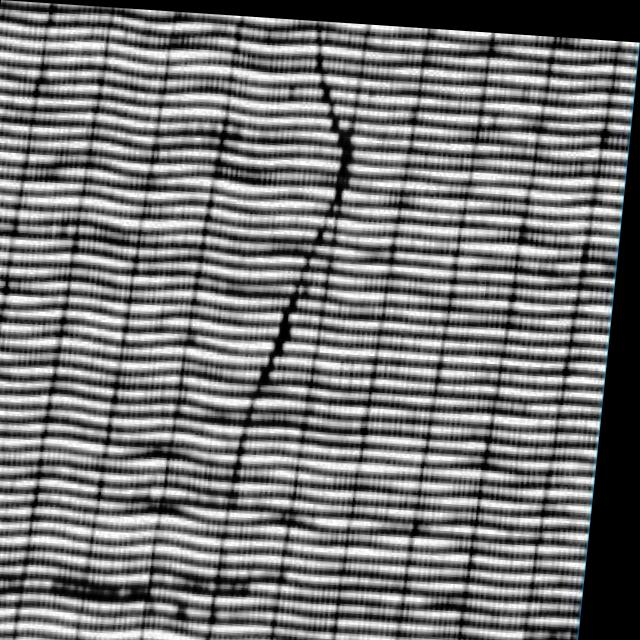Stitch: (210, 13, 386, 498)
